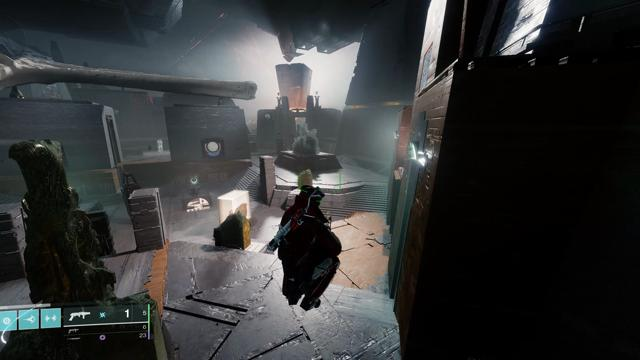commune: (265, 113, 271, 120)
traveler: (205, 142, 221, 156)
